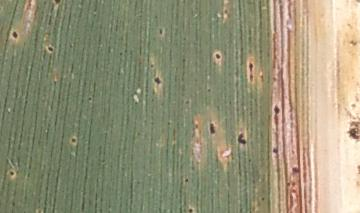tarspot: (204, 119, 218, 138), (268, 143, 283, 157), (288, 164, 305, 176), (235, 131, 249, 145), (7, 27, 20, 41), (83, 92, 96, 105), (271, 101, 282, 115), (44, 43, 56, 55), (245, 60, 256, 73), (151, 75, 163, 86), (182, 97, 194, 108), (257, 192, 268, 203), (68, 134, 78, 146), (213, 51, 223, 63), (219, 7, 233, 15), (204, 84, 214, 95), (50, 1, 68, 7), (8, 167, 17, 179), (180, 176, 192, 185), (157, 25, 166, 36), (185, 205, 196, 213)
